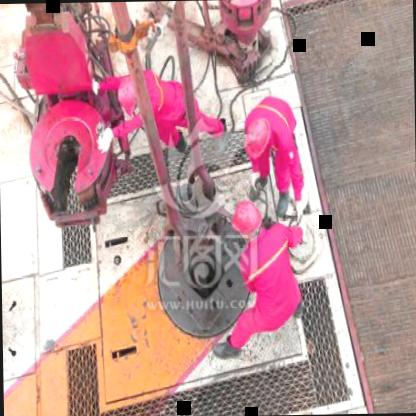helmet: (227, 196, 260, 245), (113, 71, 147, 115), (246, 115, 270, 159)
